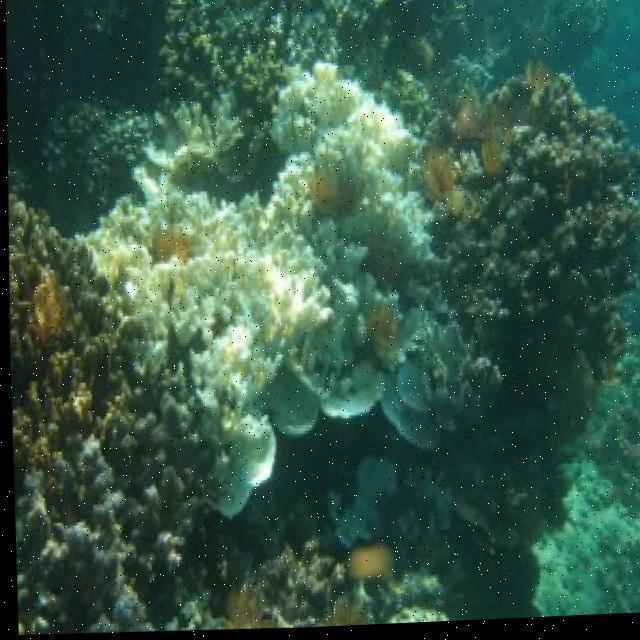Bleached Coral: (73, 35, 473, 532)
